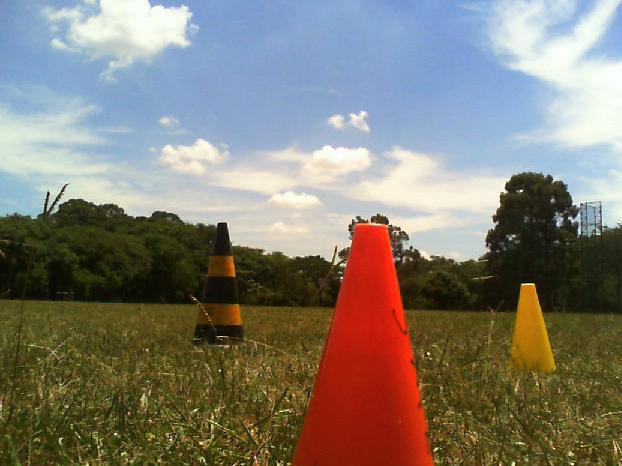0 cone: (290, 223, 433, 466), (192, 221, 243, 345), (509, 285, 556, 373)
